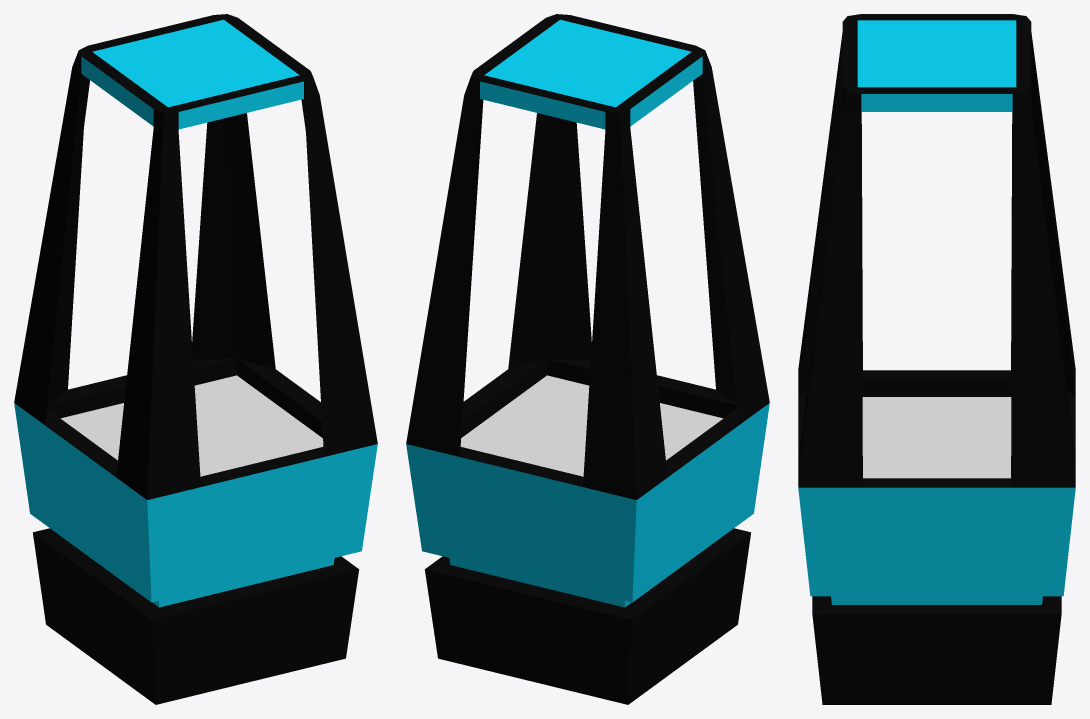
File: headShelf.fbx
The picture shows the model from 3 angles, left to right: view 1: azimuth 30°, elevation 25°; view 2: azimuth 150°, elevation 25°; view 3: azimuth 270°, elevation 25°; orthographic projection. The views are drawn at different scales.
Visible parts, largest first — view 1: standBox.001; view 2: standBox.001; view 3: standBox.001.
Boxes of the visible parts, x1,y1,x2,y2 form: standBox.001: (14, 14, 377, 704); standBox.001: (406, 14, 769, 704); standBox.001: (798, 14, 1075, 704).
Size of the model in its own units: 0.2146 by 0.5141 by 0.2146.
